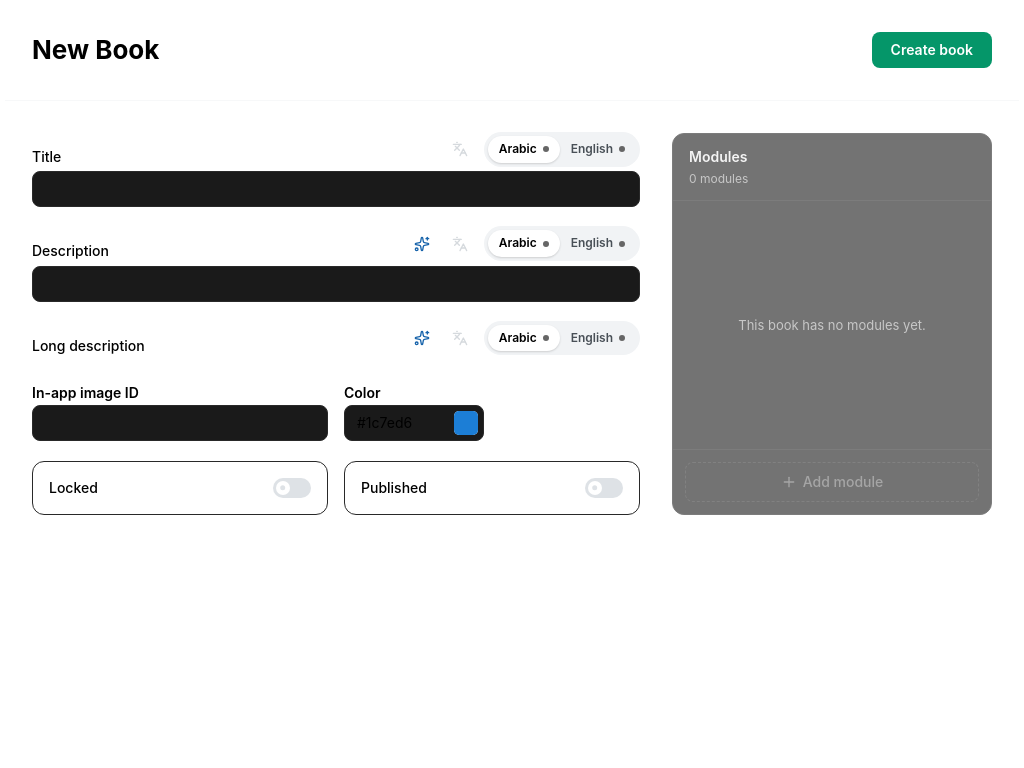
Test case: AddBookPage › stays on the form and surfaces the failure when creation fails
What coordinates should you click on to do the following:
click the button "Create book"
I would click on:
 (932, 50)
Its box is [872,32,992,68].
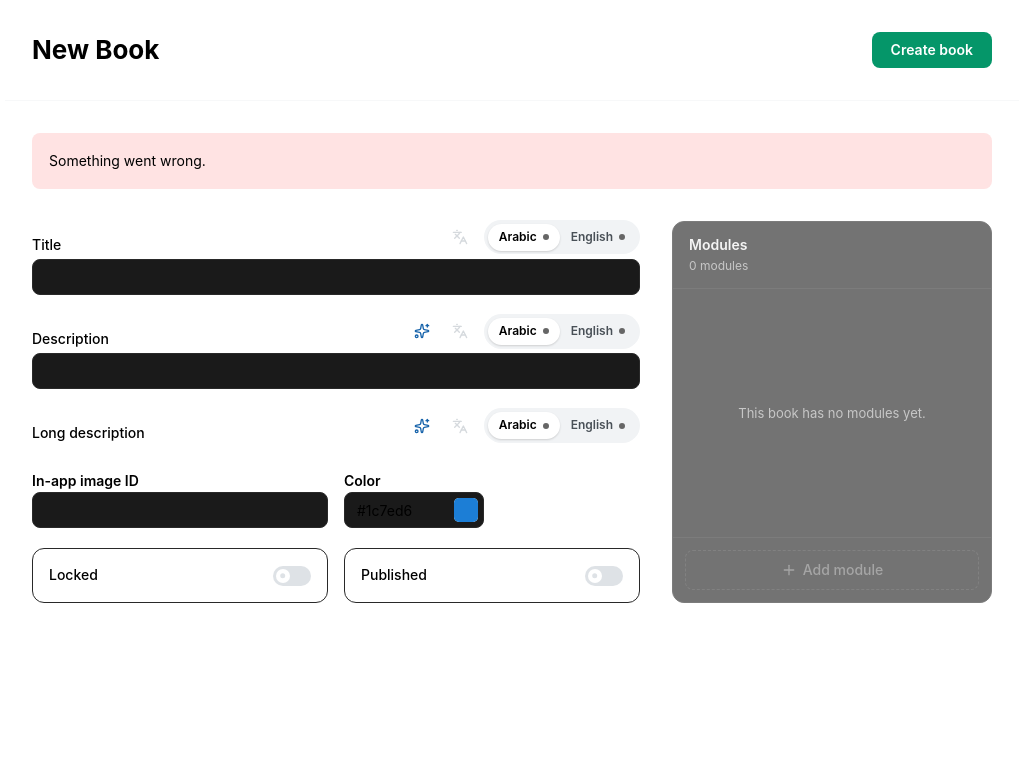
Expected: the text "Something went wrong." is shown, [49,152,206,169]
